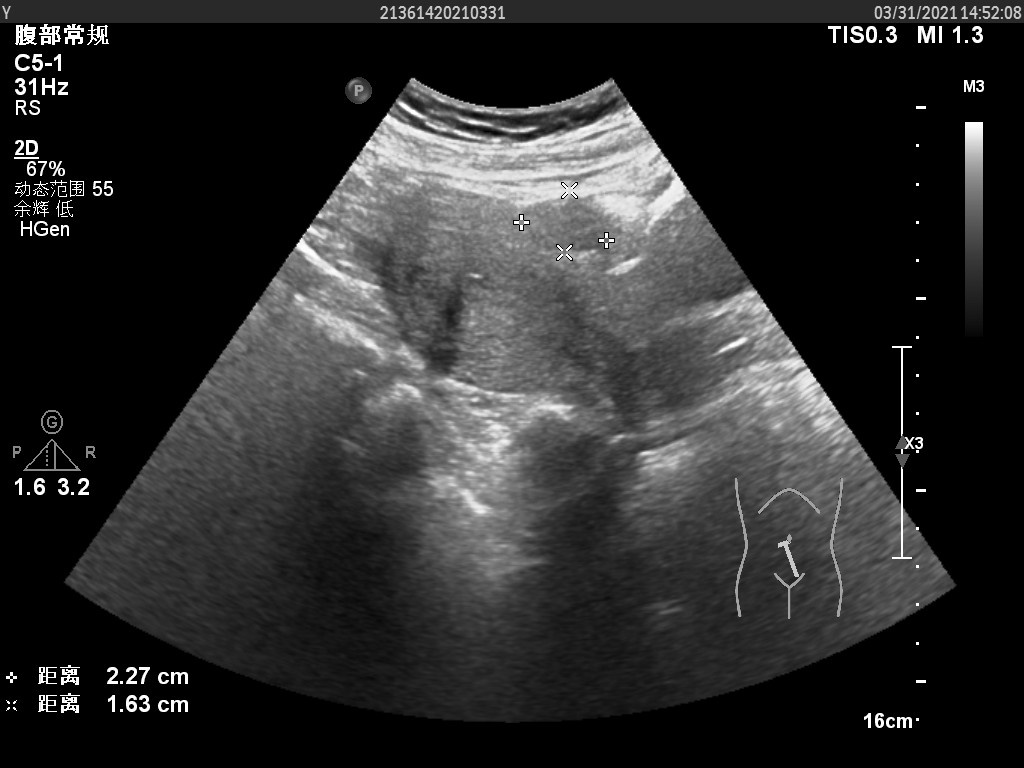肌瘤: (519, 188, 608, 254)
